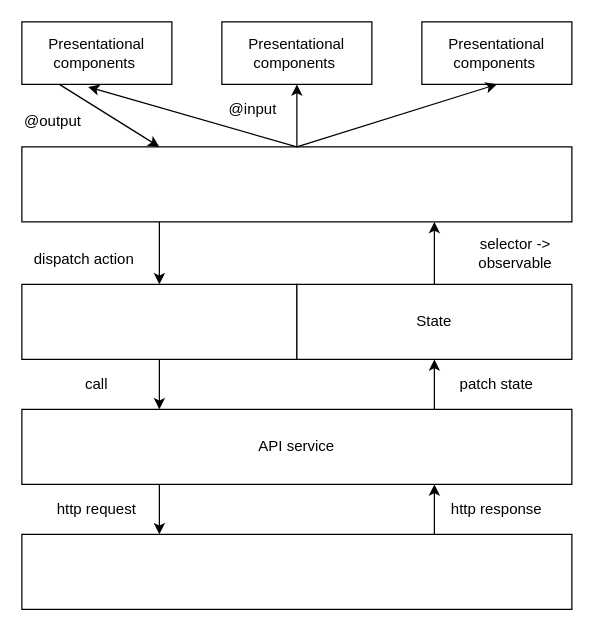
The diagram is 606 pixels wide and 631 high, and some of its shapes have lost their labels. Each missing label, with the centre of its shape:
"Container components" goes at pixel 296 184.
"Server" goes at pixel 296 571.
"Store Action" goes at pixel 159 321.
